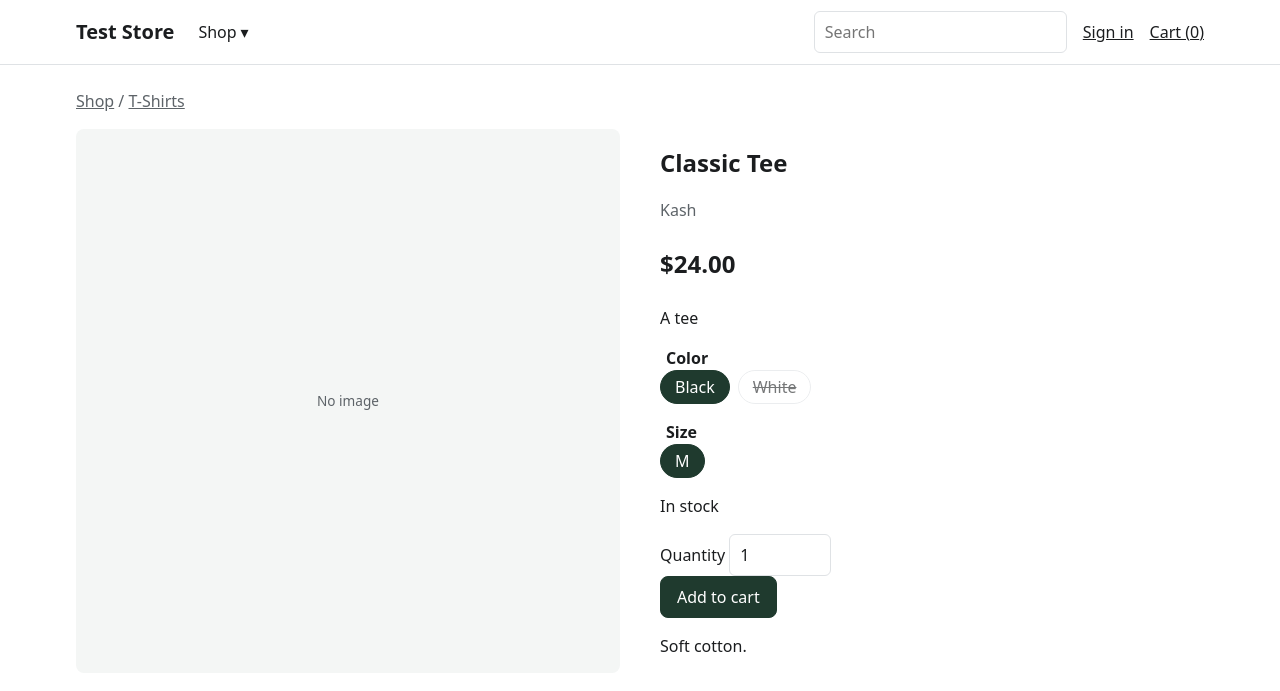
it: Product detail › selects variants, shows price / stock, and adds the chosen variant to the cart
Expected: the heading "Classic Tee" is shown, [660, 146, 788, 179]
Expected: the text "In stock" is shown, [660, 495, 719, 517]
Click the button "Add to cart": x=718, y=597 [660, 576, 777, 618]
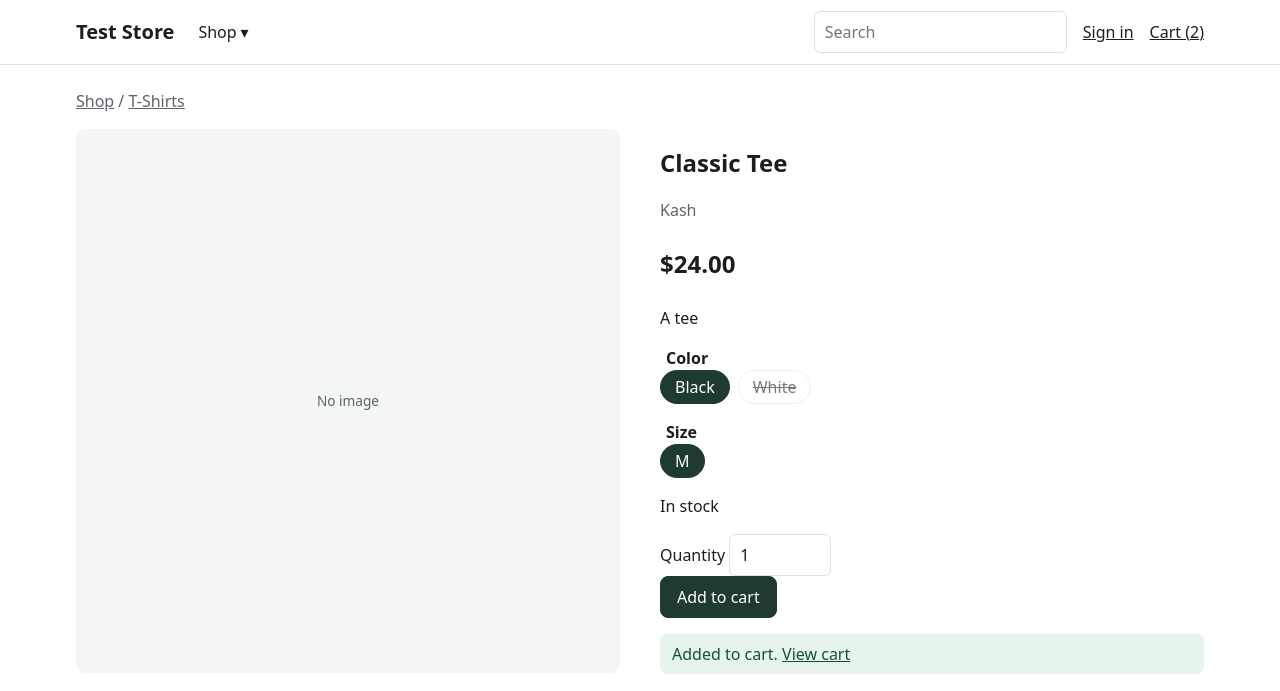
Expected: the text "Added to cart. View cart" is shown, [660, 634, 1204, 674]
pick the sold-out White variant: price/compare-at update, button disabled
Click the radio button labelled "White": x=775, y=387 [738, 370, 811, 404]
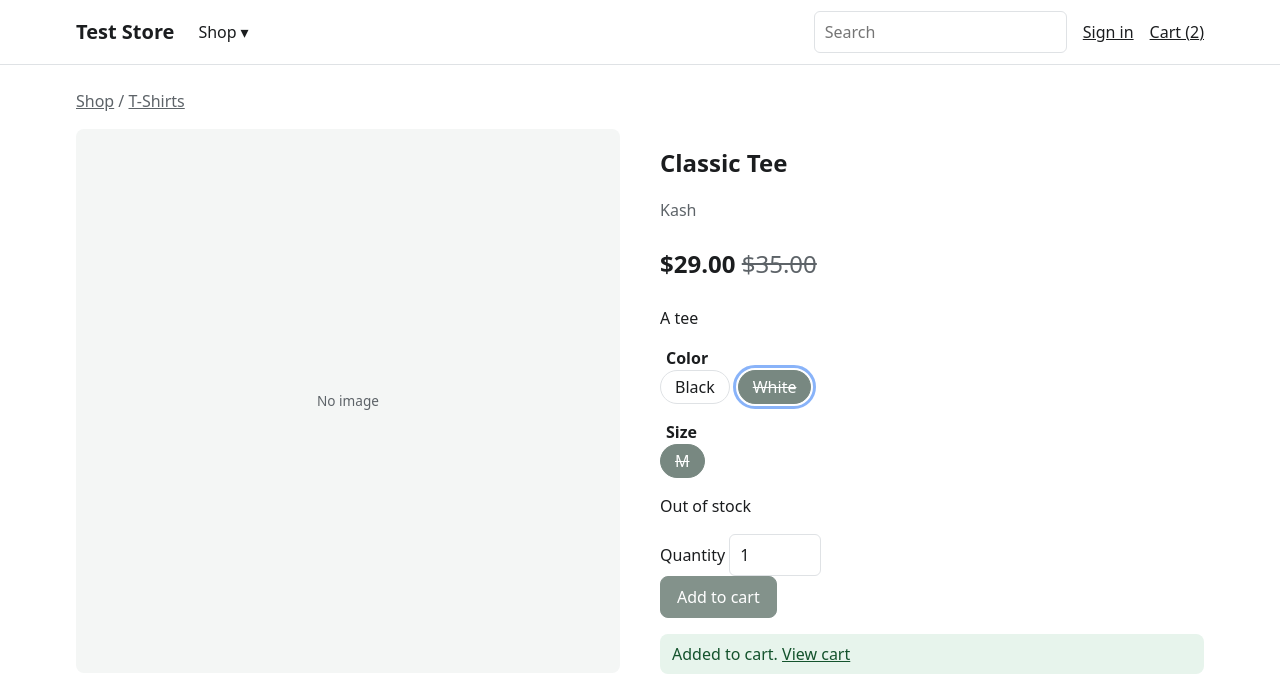
Expected: the text "Out of stock" is shown, [660, 495, 751, 517]
Expected: the text named "Original price" reads "$35.00", [742, 247, 817, 280]
Expected: the button "Add to cart" is disabled, [660, 576, 777, 618]
